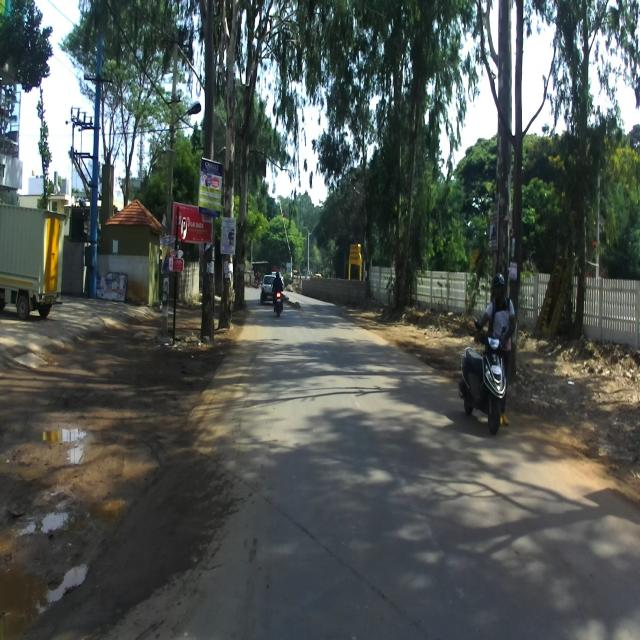car: (0, 203, 66, 319), (260, 274, 278, 304)
motorcycle: (270, 283, 284, 317)
scooter: (457, 321, 507, 434)
